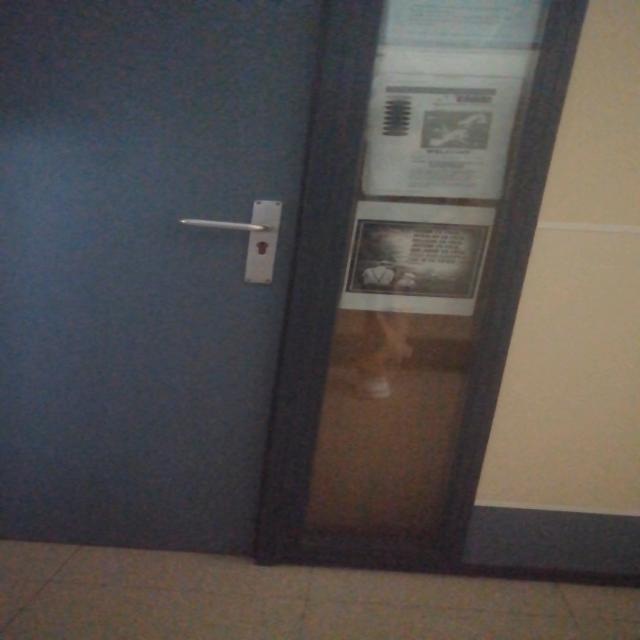door_handle: (178, 216, 276, 235)
